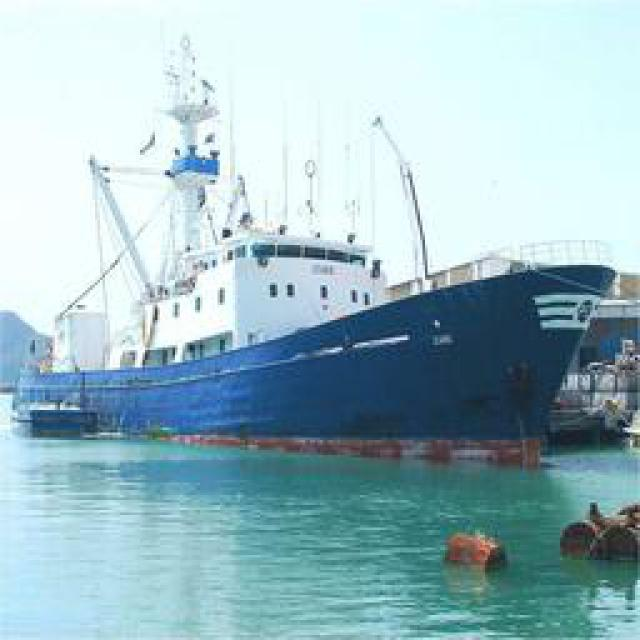Ship: (23, 94, 611, 444)
